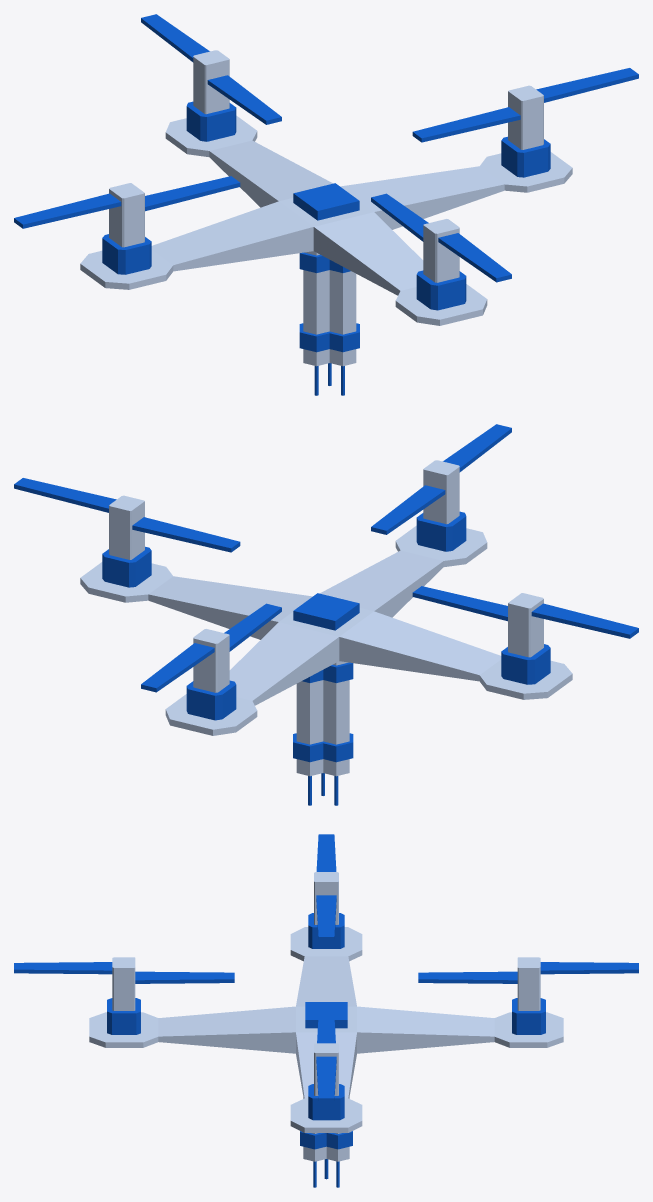
The model's file is Mortar_Shell_Drone.fbx.
3 views of the same model, one above another, from view 1: azimuth 30°, elevation 25°; view 2: azimuth 150°, elevation 25°; view 3: azimuth 270°, elevation 25° (orthographic). The views are drawn at different scales.
Parts seen in each view (by area): view 1: OpenDrone, Drone_Dynamite, Blades1, Blades3, Blades4, Blades2; view 2: OpenDrone, Drone_Dynamite, Blades1, Blades3, Blades2, Blades4; view 3: OpenDrone, Blades2, Blades4, Drone_Dynamite, Blades3, Blades1.
Boxes of the visible parts, bbox=[...] form: OpenDrone: bbox=[80, 50, 572, 325]; Drone_Dynamite: bbox=[299, 251, 359, 395]; Blades1: bbox=[412, 68, 638, 142]; Blades3: bbox=[14, 176, 240, 228]; Blades4: bbox=[141, 14, 281, 124]; Blades2: bbox=[371, 193, 511, 282]; OpenDrone: bbox=[80, 460, 572, 735]; Drone_Dynamite: bbox=[293, 661, 353, 805]; Blades1: bbox=[14, 478, 240, 552]; Blades3: bbox=[412, 586, 638, 638]; Blades2: bbox=[371, 424, 511, 534]; Blades4: bbox=[141, 603, 281, 692]; OpenDrone: bbox=[89, 872, 563, 1132]; Blades2: bbox=[14, 962, 234, 983]; Blades4: bbox=[418, 962, 638, 983]; Drone_Dynamite: bbox=[300, 1097, 352, 1187]; Blades3: bbox=[316, 834, 336, 940]; Blades1: bbox=[316, 1014, 336, 1101].
Size of the model in its own units: 20.11 by 7.81 by 20.11.
1 material, 1 textured.
